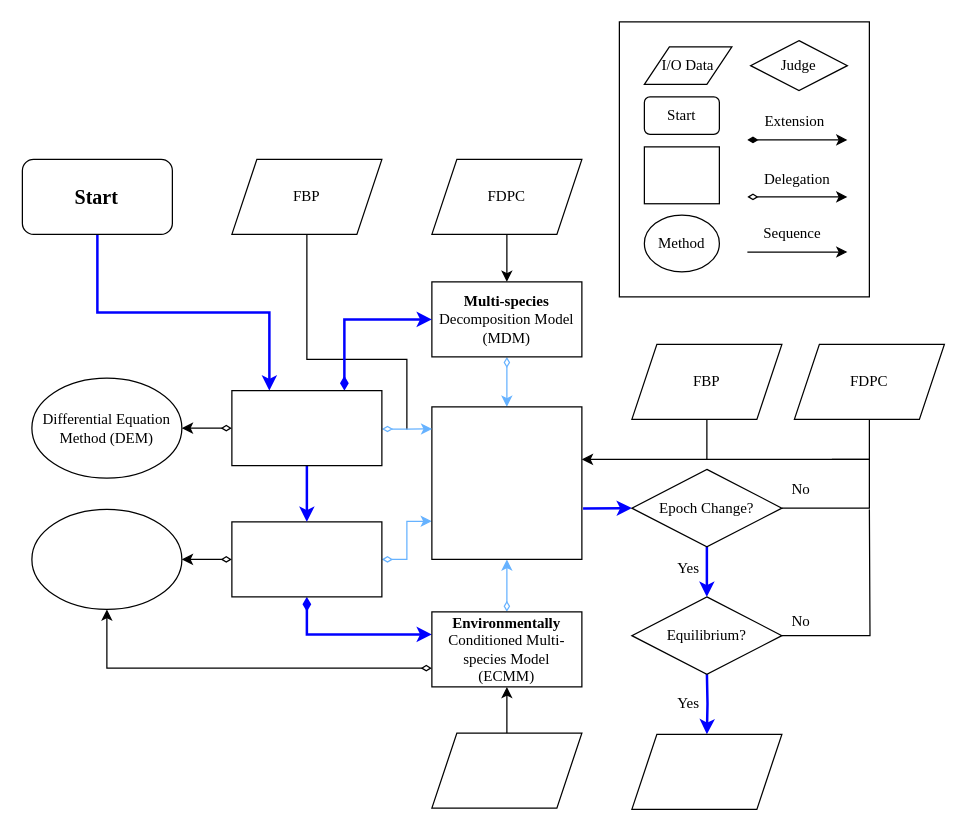
Image size: 966x831. Some labels were removed from this diagram. The centre of each missing label's shape, as x and y in pixels:
"Algorithm High-Precision Cellular -Automaton (HPCA)" goes at point 506,482.
"IGCD-M" goes at point 506,770.
"Interactions between Multi-species Model (IMM)" goes at point 306,559.
"PMM & MP" goes at point 106,558.
"Process" goes at point 681,175.
"Result" goes at point 706,771.
"Single-species Decomposition Model (SDM)" goes at point 306,427.
